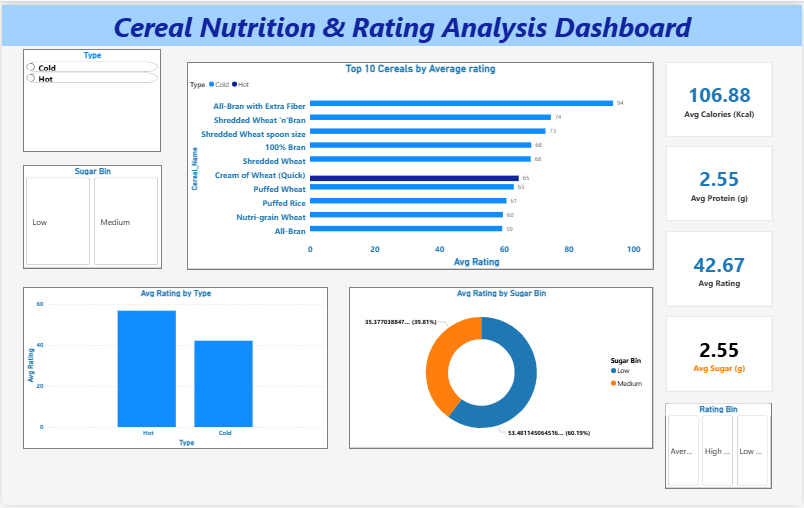

This screenshot's page, from the dashboard's own definition file:
{"tool":"powerbi","page":{"name":"Page 1","canvas":[1600,1000],"ordinal":0},"visuals":[{"type":"textbox","box":[0,0,1600,82],"z":0},{"type":"card","fields":{"Values":["Table 1.Avg Calories"]},"box":[1327,113.4,213.3,149.5],"z":1000},{"type":"card","fields":{"Values":["Table 1.Avg Protein"]},"box":[1327,281.4,213.3,149.5],"z":2000},{"type":"card","fields":{"Values":["Table 1.Avg Rating"]},"box":[1327,451,213.3,151.2],"z":3000},{"type":"card","fields":{"Values":["Table 1.Avg Sugar"]},"box":[1327,622.4,213.3,151.2],"z":4000},{"type":"clusteredBarChart","title":"Top 10 Cereals by Average rating","fields":{"Y":["Table 1.Avg Rating"],"Category":["Table 1.Food_Name"],"Series":["Table 1.Type"]},"box":[369.2,113.5,932.7,415.4],"z":5000},{"type":"listSlicer","fields":{"Values":["Table 1.Type"]},"box":[42,88,276,206],"z":6000},{"type":"columnChart","fields":{"Category":["Table 1.Type"],"Y":["Table 1.Avg Rating"]},"box":[42,564,610,324],"z":7000},{"type":"donutChart","fields":{"Y":["Table 1.Avg Rating"],"Category":["Table 1.Sugar Bin"]},"box":[694.9,565,608.3,322.8],"z":8000},{"type":"advancedSlicerVisual","fields":{"Values":["Table 1.Sugar Bin"]},"box":[41.3,320.9,277.6,206.7],"z":9000},{"type":"advancedSlicerVisual","fields":{"Values":["Table 1.Rating Bin"]},"box":[1326.8,795.3,212.6,171.3],"z":10000}]}

Visuals, with their boxes in screenshot pixels (x1, y1, x2, y2), scaled from the page's 1600x1000 canvas onto the 804x508 screenshot:
textbox: bbox=[0, 0, 803, 42]
card - Table 1.Avg Calories: bbox=[667, 58, 774, 134]
card - Table 1.Avg Protein: bbox=[667, 143, 774, 219]
card - Table 1.Avg Rating: bbox=[667, 229, 774, 306]
card - Table 1.Avg Sugar: bbox=[667, 316, 774, 393]
"Top 10 Cereals by Average rating" clusteredBarChart: bbox=[186, 58, 654, 269]
listSlicer - Table 1.Type: bbox=[21, 45, 160, 149]
columnChart - Table 1.Type x Table 1.Avg Rating: bbox=[21, 287, 328, 451]
donutChart - Table 1.Avg Rating x Table 1.Sugar Bin: bbox=[349, 287, 655, 451]
advancedSlicerVisual - Table 1.Sugar Bin: bbox=[21, 163, 160, 268]
advancedSlicerVisual - Table 1.Rating Bin: bbox=[667, 404, 774, 491]
